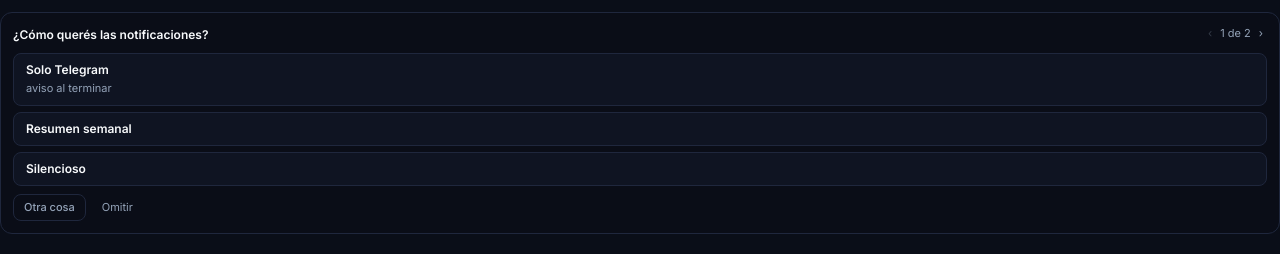
InteractiveQuestionCard › disables the arrow until there is text
The image size is (1280, 254).
Click the button "Otra cosa": {"x": 49, "y": 208} [13, 194, 86, 221]
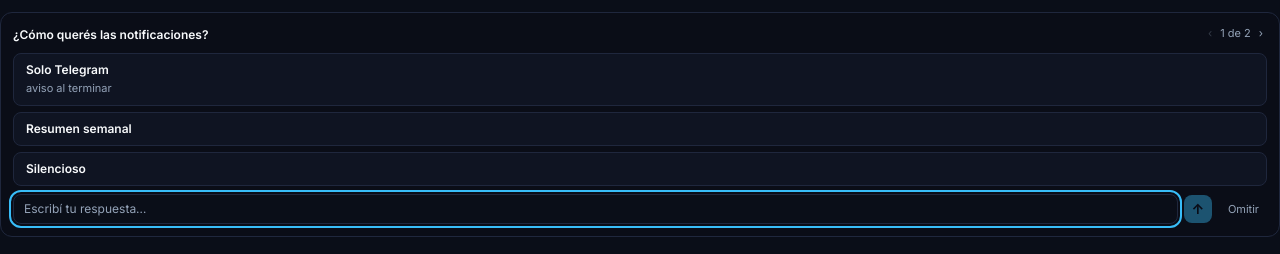
Expected: the button named "Enviar respuesta" is disabled, [1184, 195, 1212, 223]
In the field named "Otra cosa": {"x": 595, "y": 209} [13, 194, 1178, 224], type "algo"
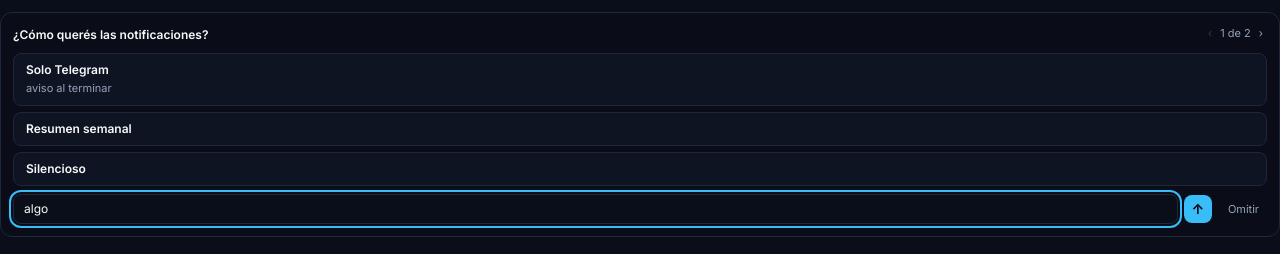
Expected: the button named "Enviar respuesta" is enabled, [1184, 195, 1212, 223]
